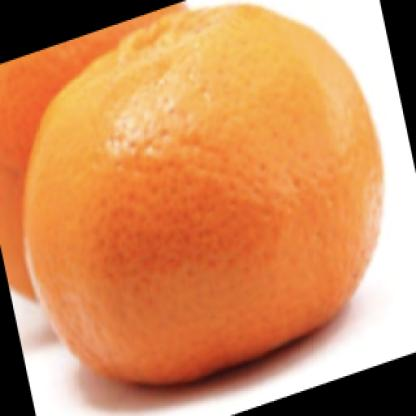fresh: (26, 7, 385, 386)
